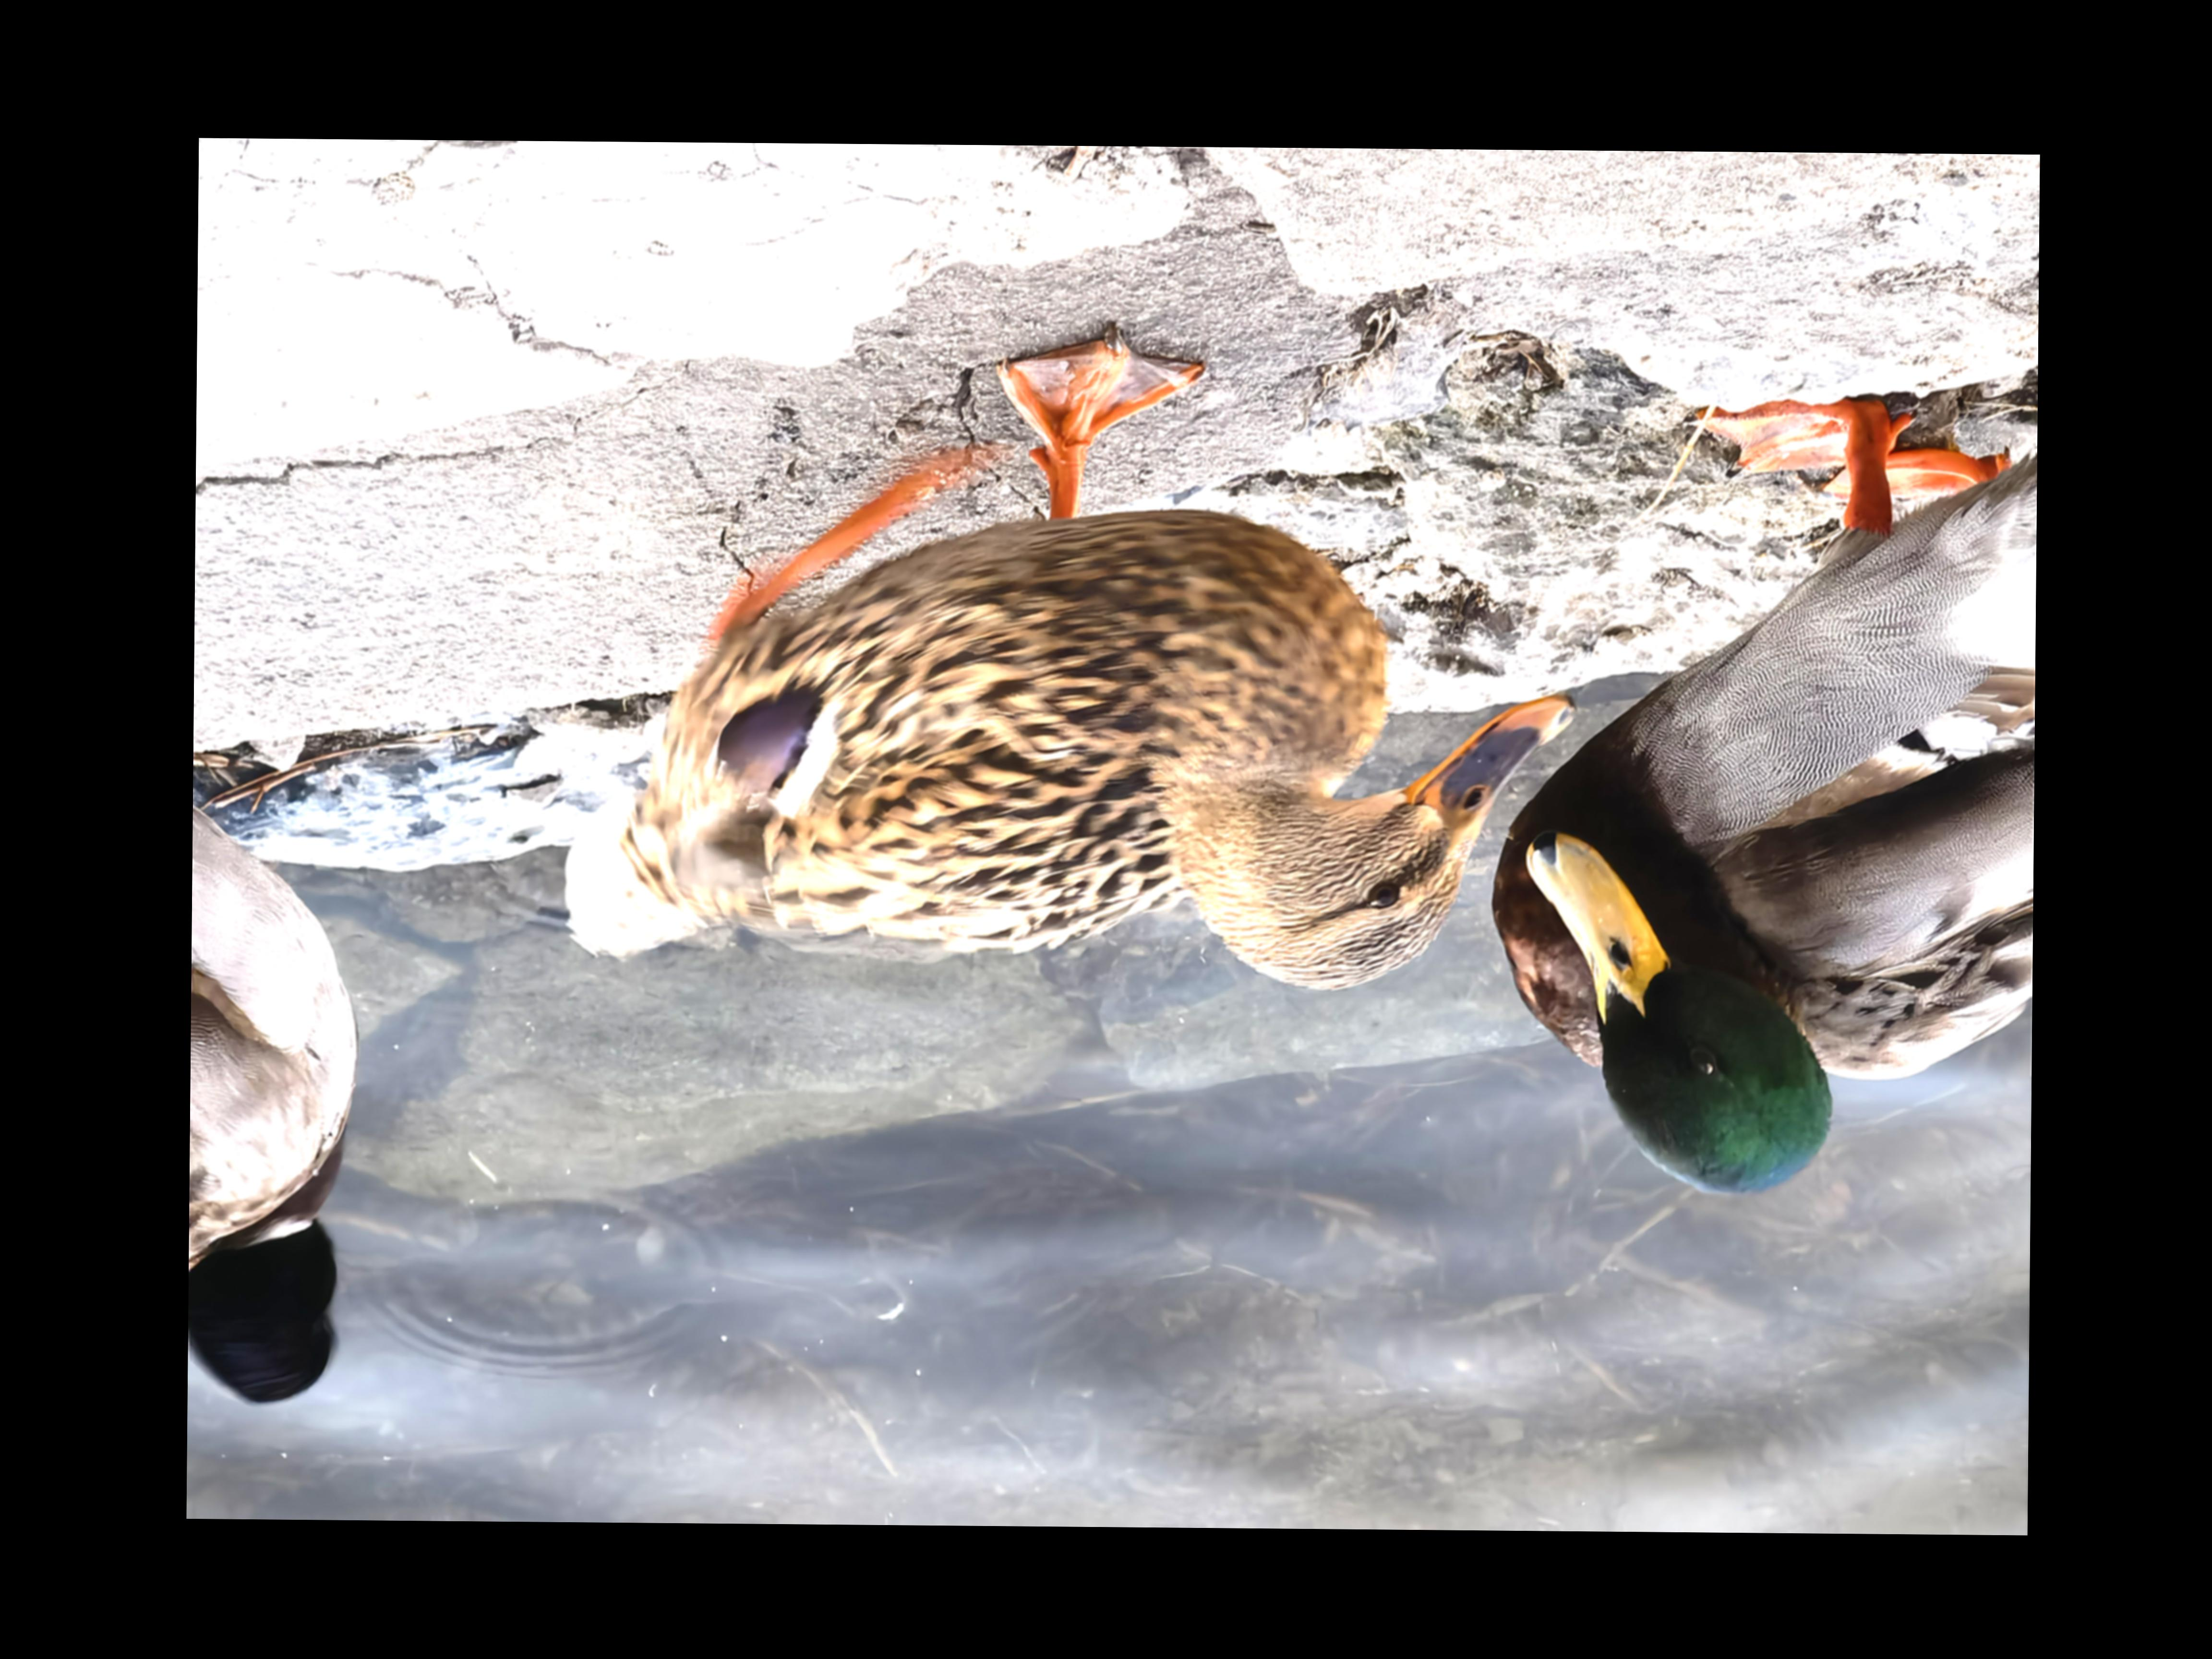duck: (540, 349, 1587, 1094), (1479, 385, 2038, 1260), (186, 803, 418, 1429)
